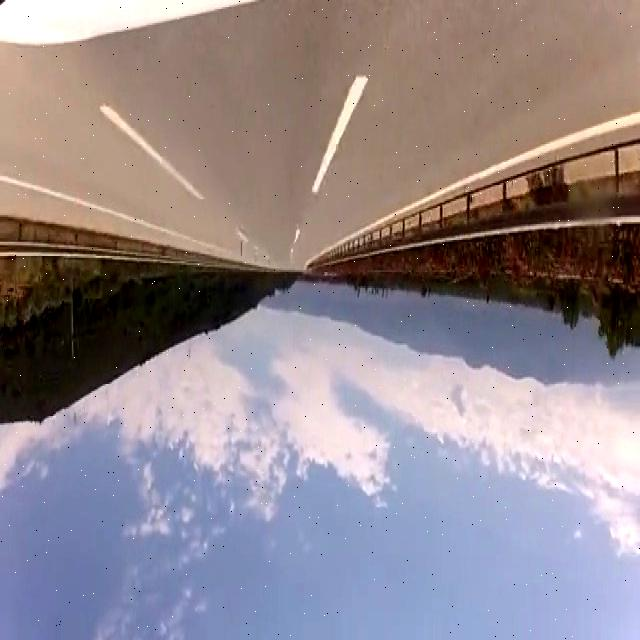lane: (358, 111, 640, 233), (99, 103, 205, 199), (313, 78, 367, 192), (0, 177, 90, 206), (349, 78, 365, 116)
road: (1, 1, 637, 270)
